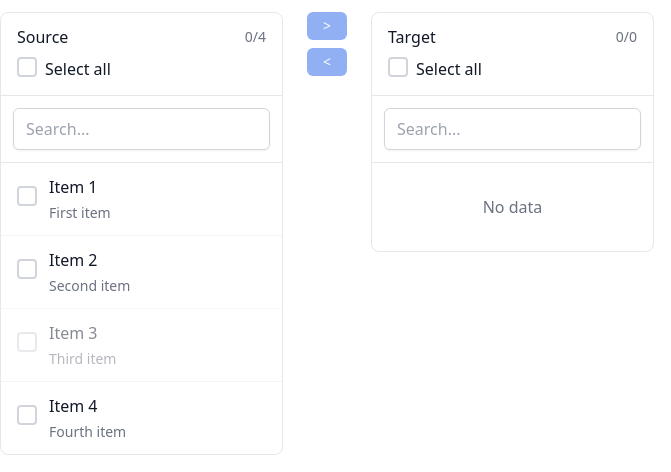
Transfer › handles select all functionality
Click the checkbox labelled "Select all" below "Source".
click(78, 69)  # box x1=45 y1=57 x2=111 y2=81
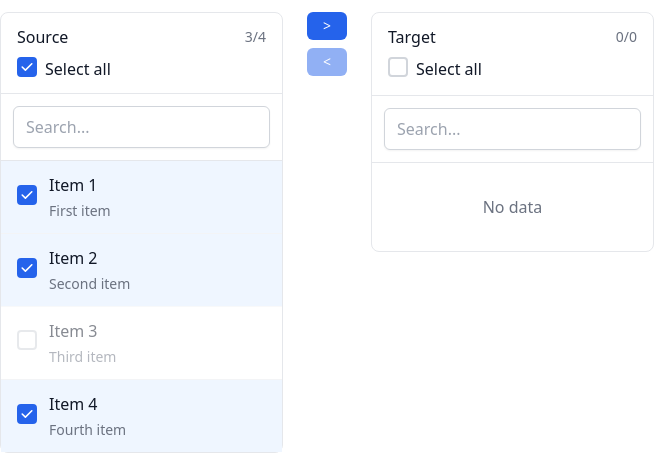
Now the button ">" is enabled, box x1=307 y1=12 x2=347 y2=40
